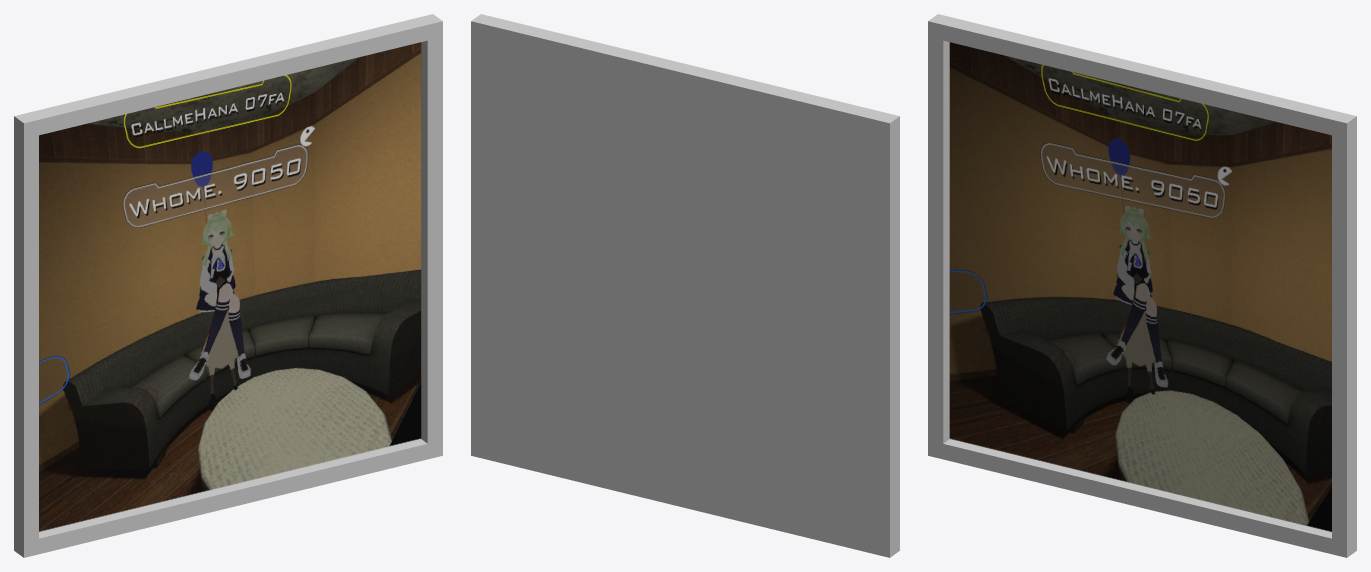
File: photo13.fbx
The picture shows the model from 3 angles, left to right: view 1: azimuth 30°, elevation 25°; view 2: azimuth 150°, elevation 25°; view 3: azimuth 330°, elevation 25°; orthographic projection.
Visible parts, largest first — view 1: Plane.012; view 2: Plane.012; view 3: Plane.012.
Boxes of the visible parts, box(x1,y1,x2,y2) form: Plane.012: box(14, 14, 442, 557); Plane.012: box(471, 14, 899, 557); Plane.012: box(928, 14, 1356, 557).
Bounding box in the file's own units: 77.3 × 76.64 × 3.15.
Materials: 2 (1 with a texture image).
